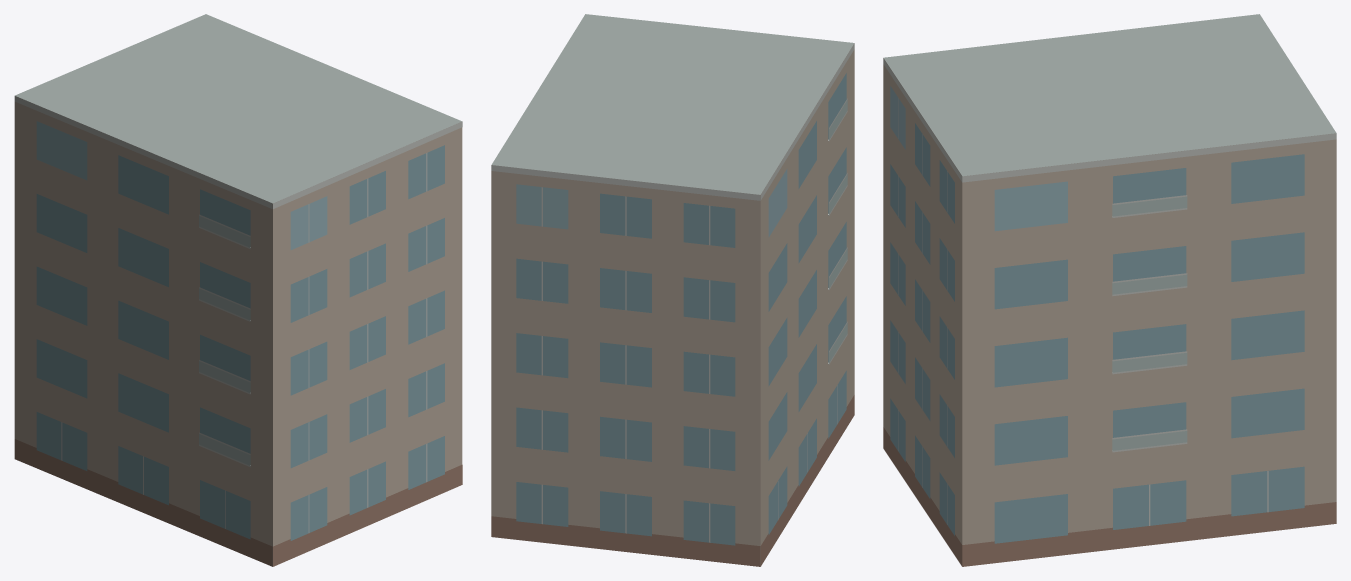
File: survey-upis-32713764.glb
3 renders of one model, left to right at view 1: azimuth 30°, elevation 25°; view 2: azimuth 150°, elevation 25°; view 3: azimuth 270°, elevation 25°, orthographic. The views are drawn at different scales.
Parts seen in each view (by area): view 1: survey-upis-32713764.tmp; view 2: survey-upis-32713764.tmp; view 3: survey-upis-32713764.tmp.
Part boxes in pixels (x1=…): survey-upis-32713764.tmp: x1=14, y1=14, x2=462, y2=566; survey-upis-32713764.tmp: x1=491, y1=14, x2=854, y2=566; survey-upis-32713764.tmp: x1=883, y1=14, x2=1336, y2=566.
Bounding box in the file's own units: 13.6 × 15.25 × 16.05.
